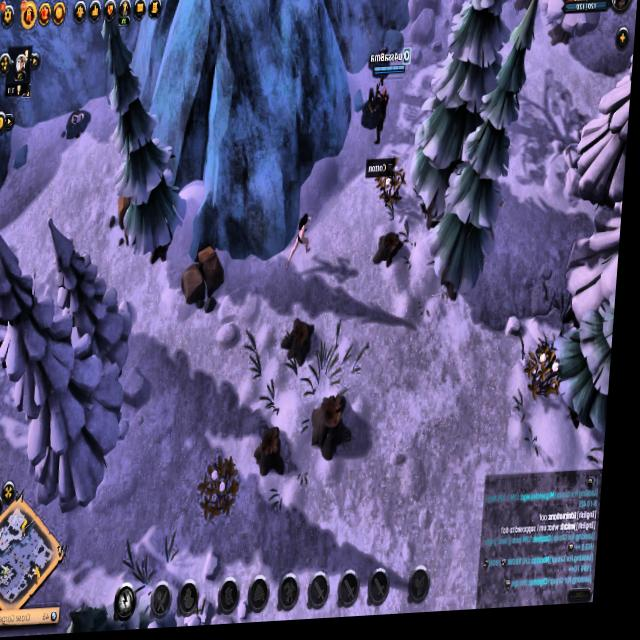cotton: (200, 461, 248, 531), (525, 351, 571, 412), (363, 160, 411, 211)
limestone: (175, 249, 238, 317)
